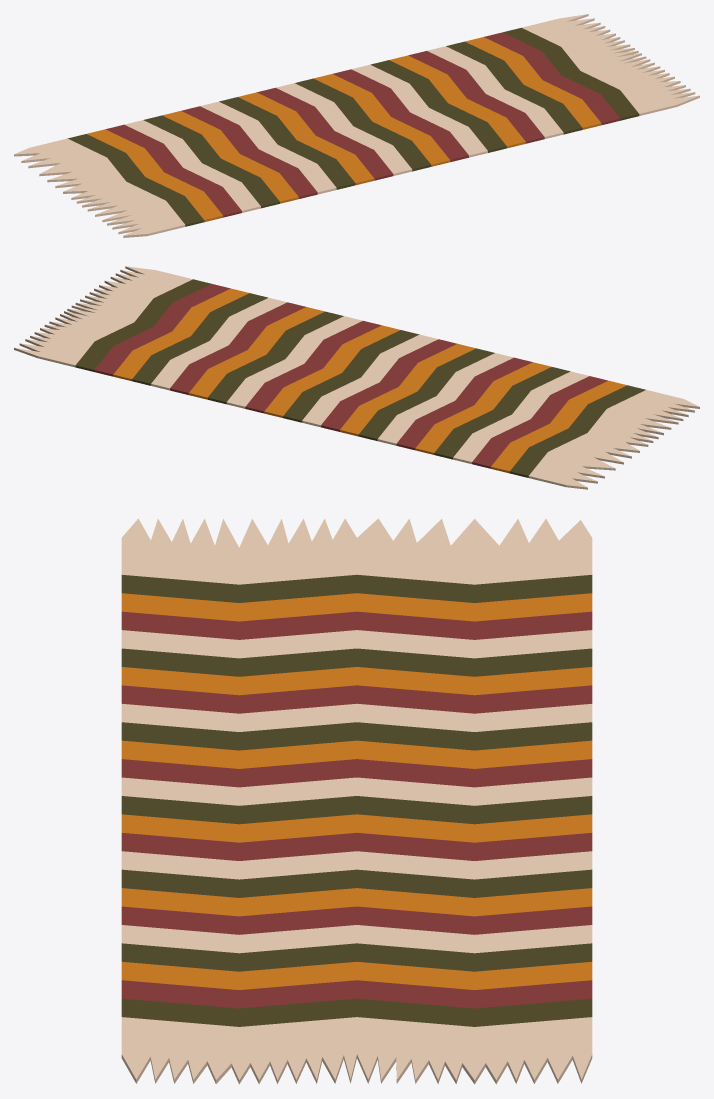
Rendered from carpet.fbx.
The picture shows the model from 3 angles, top to bottom: view 1: azimuth 30°, elevation 25°; view 2: azimuth 150°, elevation 25°; view 3: azimuth 270°, elevation 25°; orthographic projection. The views are drawn at different scales.
Parts seen in each view (by area): view 1: carpet; view 2: carpet; view 3: carpet.
Boxes of the visible parts, <box> form: carpet: <box>14,14,699,237</box>; carpet: <box>14,266,699,489</box>; carpet: <box>121,518,592,1084</box>.
Size of the model in its own units: 439 by 1.55 by 155.
